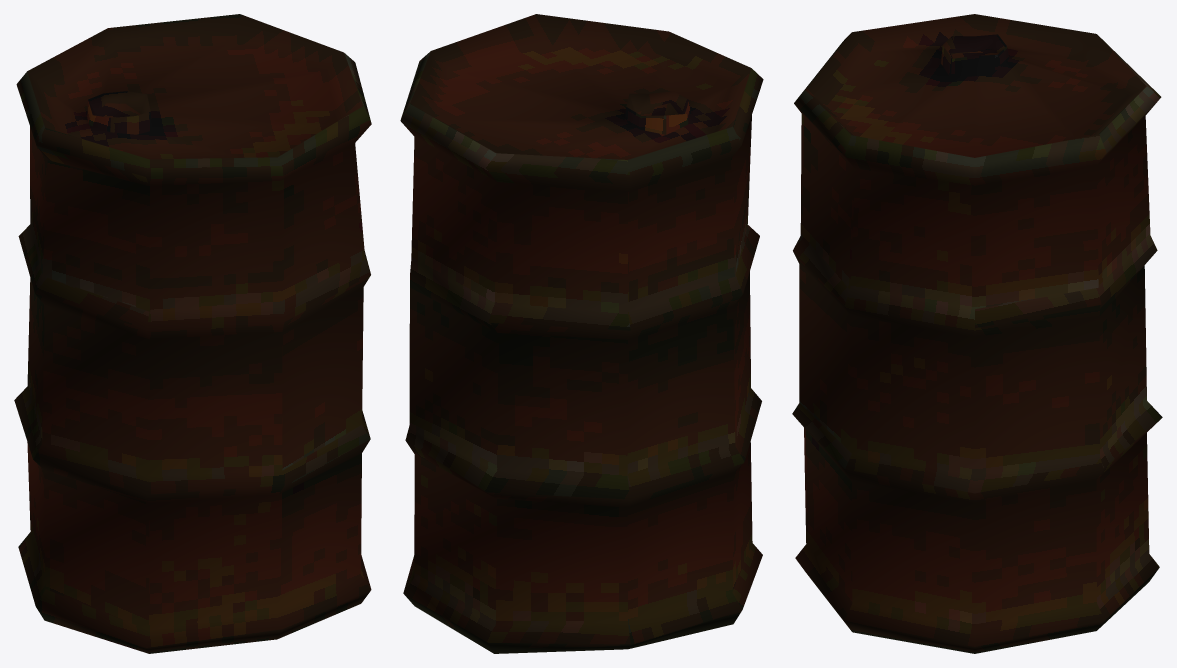
3 views of the same model, side by side, from view 1: azimuth 30°, elevation 25°; view 2: azimuth 150°, elevation 25°; view 3: azimuth 270°, elevation 25° (orthographic).
Parts seen in each view (by area): view 1: Circle; view 2: Circle; view 3: Circle.
Boxes of the visible parts, x1=… form: Circle: x1=14, y1=14, x2=371, y2=653; Circle: x1=400, y1=14, x2=763, y2=653; Circle: x1=792, y1=14, x2=1162, y2=653.
Size of the model in its own units: 2.11 by 3.14 by 2.1.
1 material, 1 textured.
